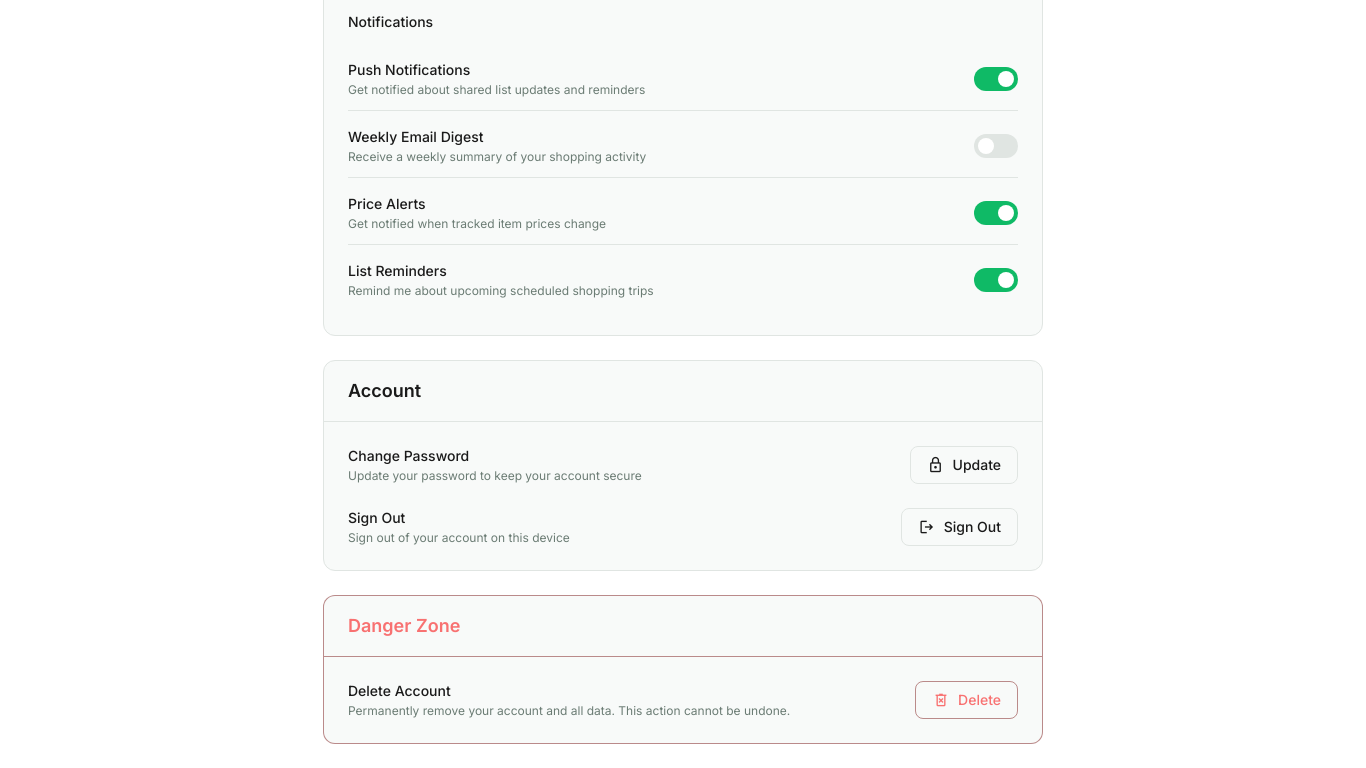
Test: SettingsPage › validates short password in Change Password modal
(page scrolled)
Click the button "Update" at point(964, 465), box [910,446,1018,484]
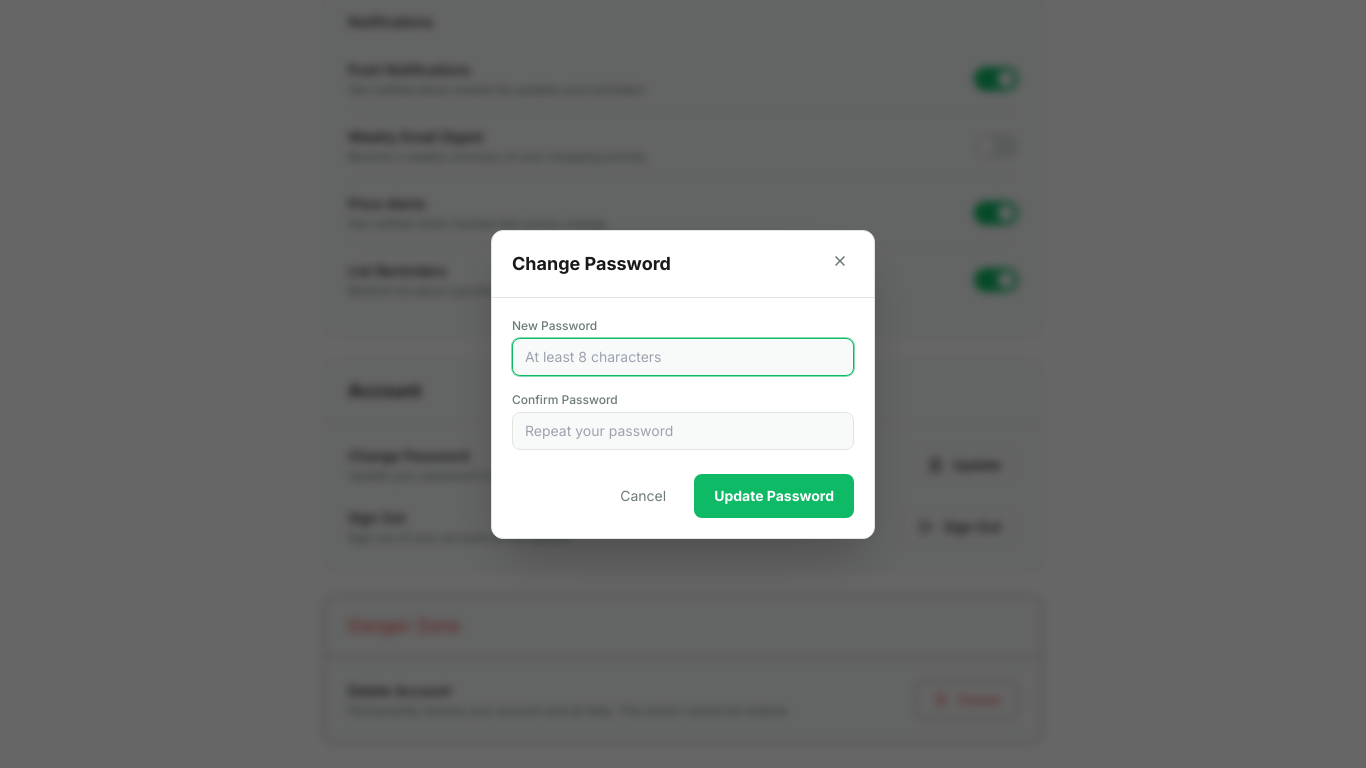
Type "short" into the password field with placeholder "At least 8 characters" at point(683, 356), box [512,338,854,376]
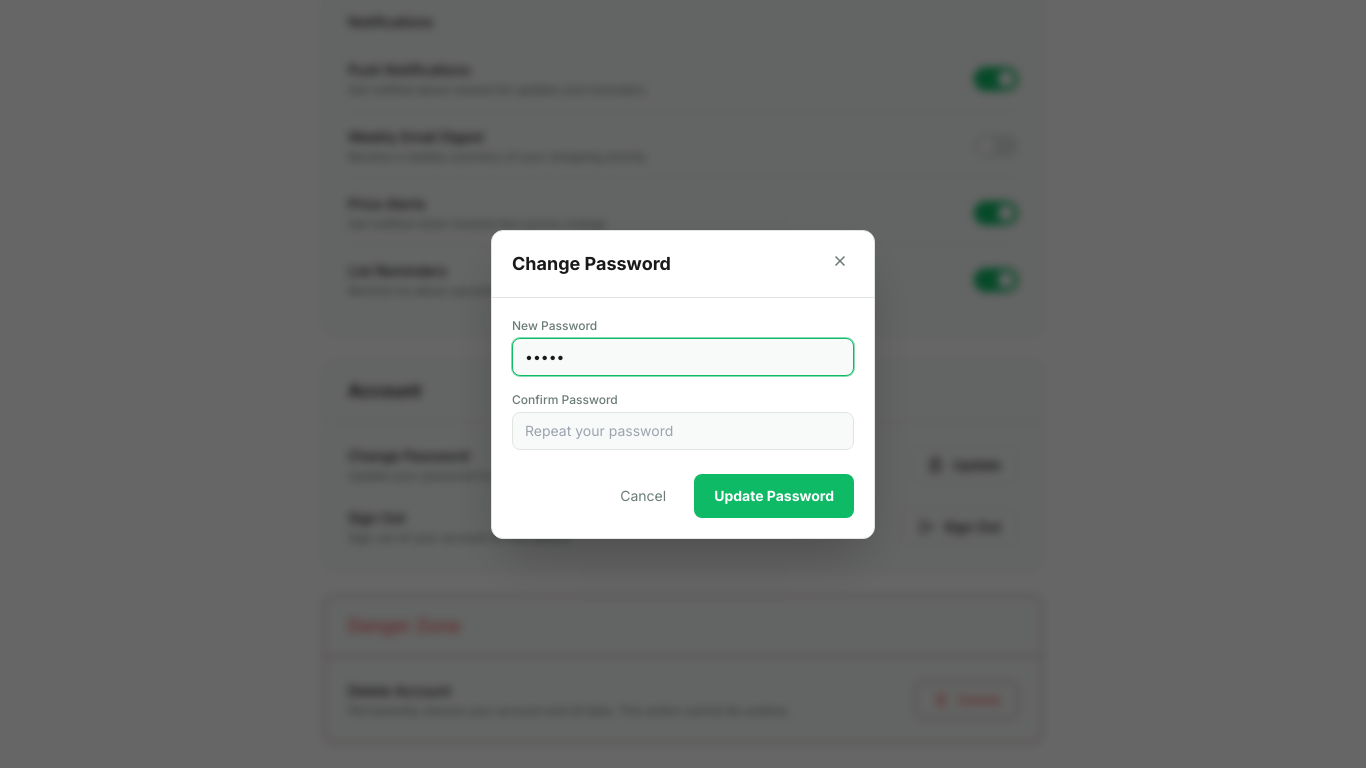
Type "short" into the password field with placeholder "Repeat your password" at point(683, 430), box [512,412,854,450]
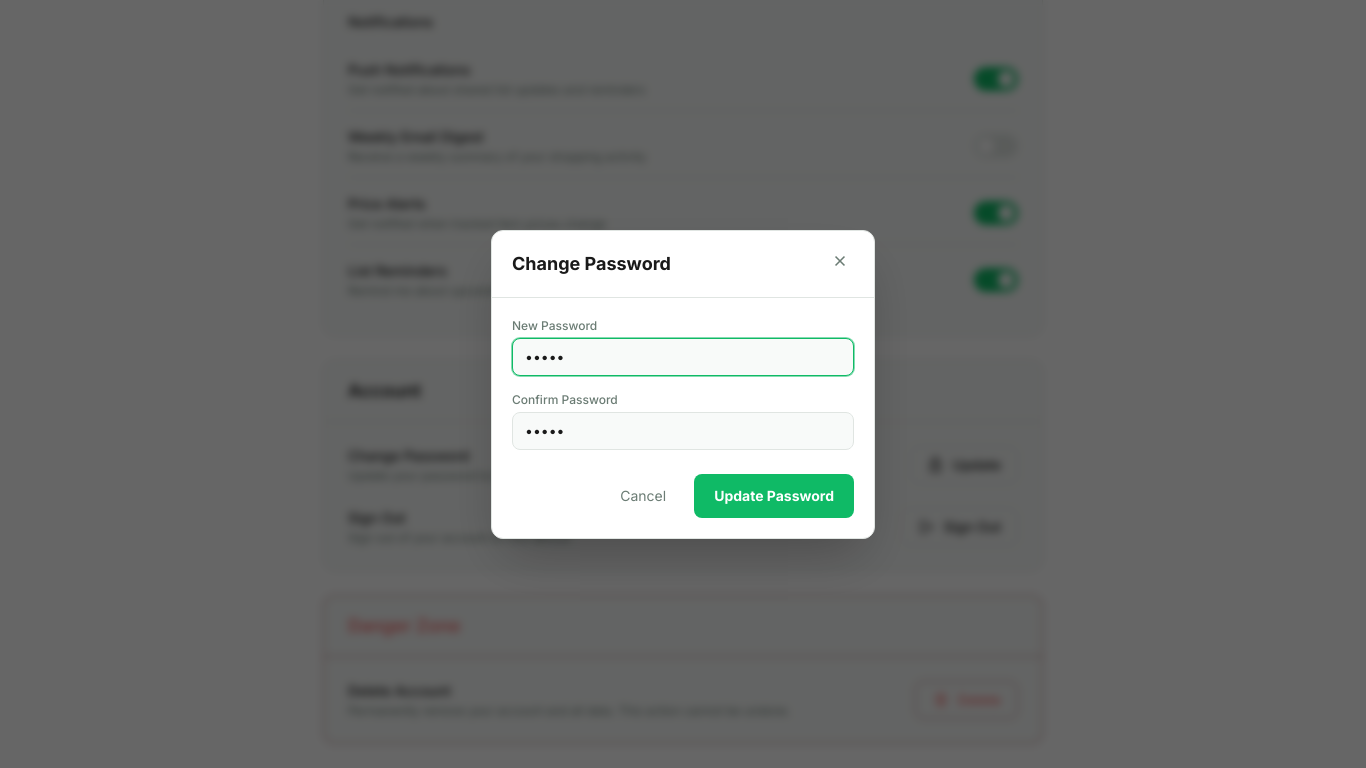
Click the button "Update Password" at point(774, 496), box [694,474,854,518]
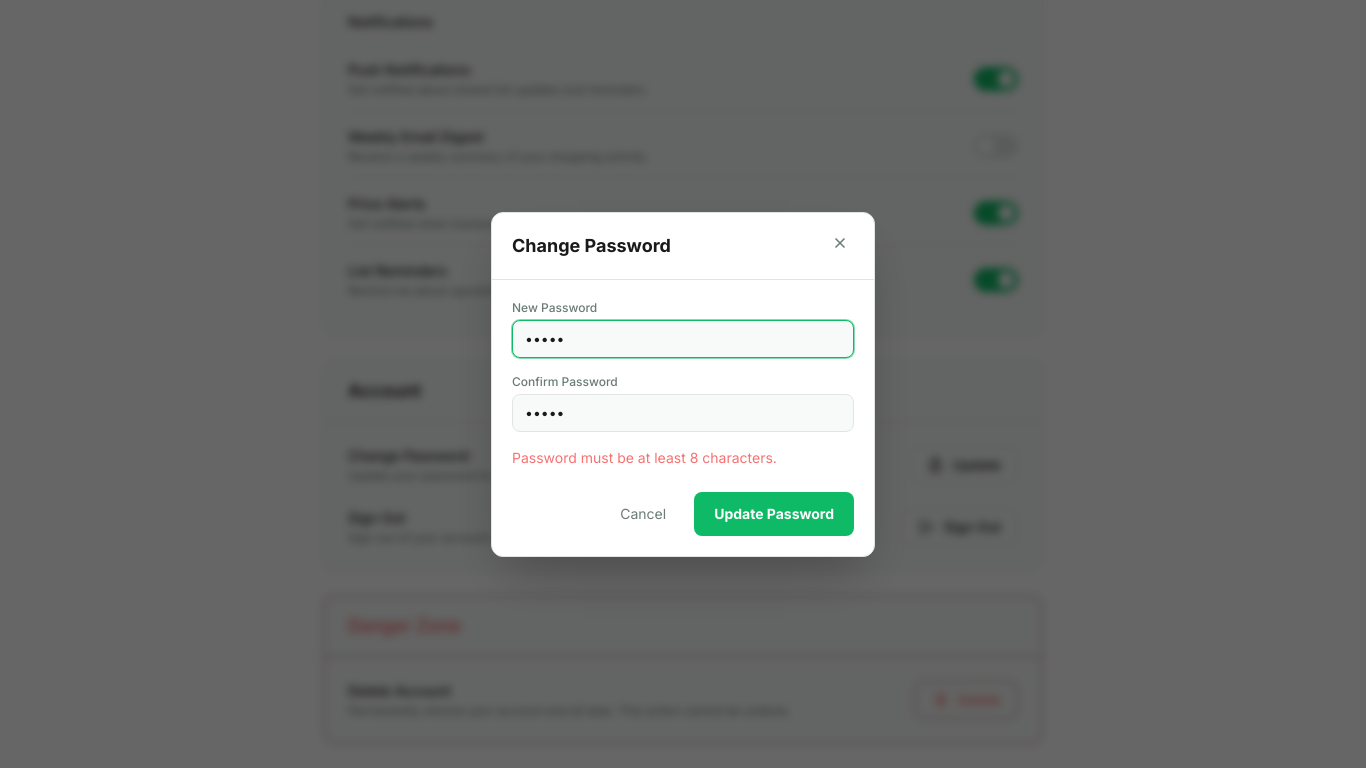
Now the text "Password must be at least 8 characters." is shown, box [512,448,777,466]
